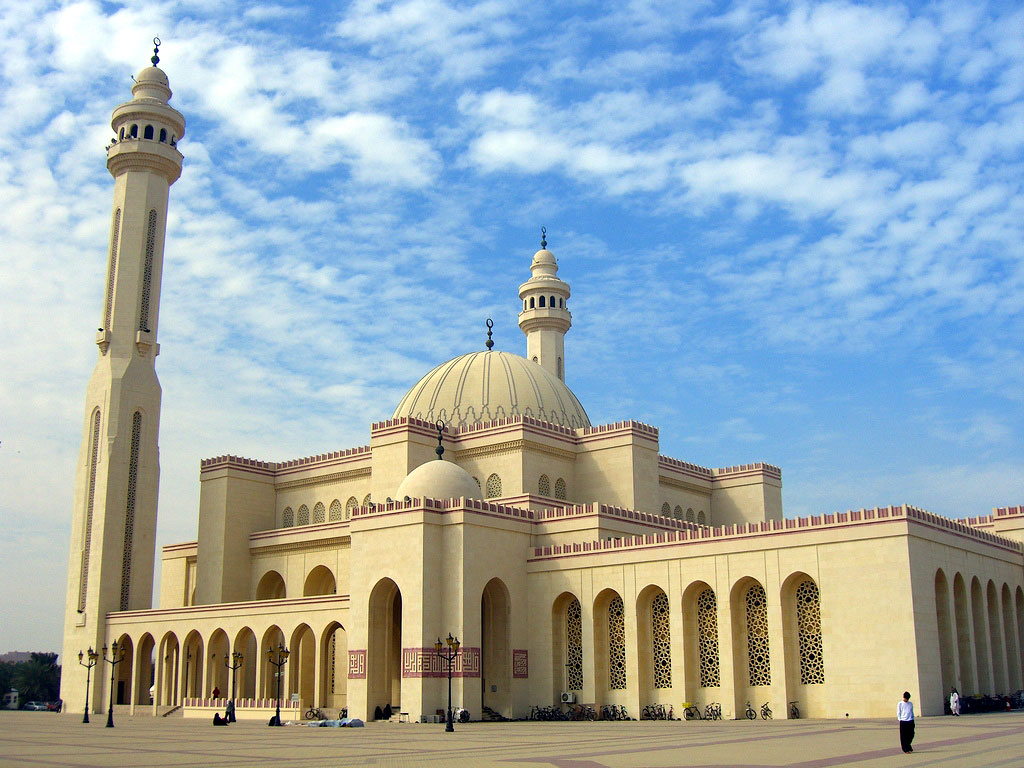Mosque: (51, 22, 1001, 706)
